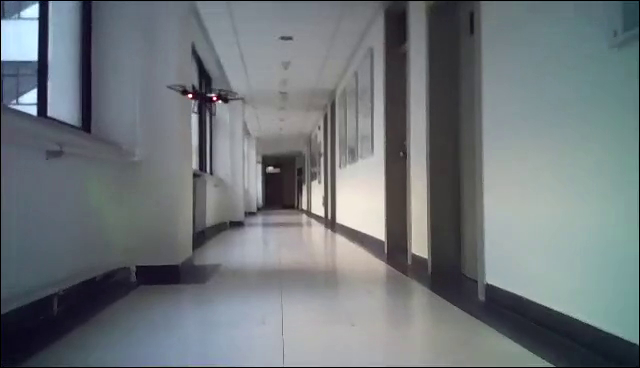drone: (165, 81, 247, 117)
